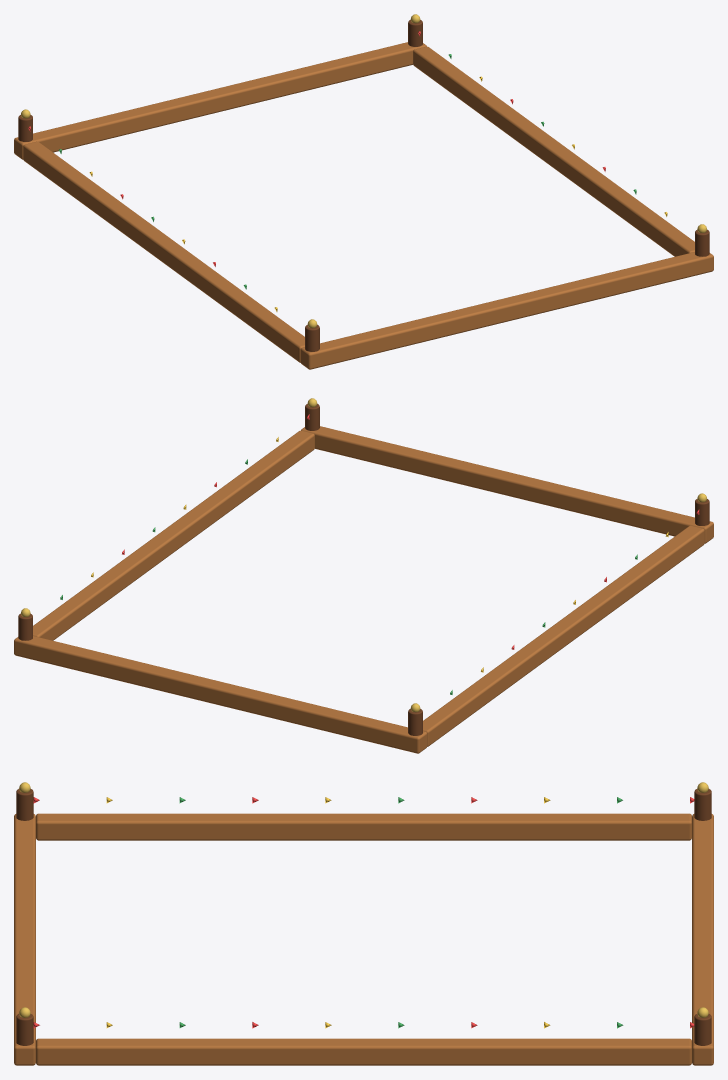
The model's file is pit_frame.glb.
3 views of the same model, one above another, from view 1: azimuth 30°, elevation 25°; view 2: azimuth 150°, elevation 25°; view 3: azimuth 270°, elevation 25° (orthographic). The views are drawn at different scales.
Visible parts, largest first — view 1: pit_frame; view 2: pit_frame; view 3: pit_frame.
Part boxes in pixels (box(x1,y1,x2,y2)): pit_frame: box(14, 14, 713, 369); pit_frame: box(14, 398, 713, 753); pit_frame: box(14, 782, 713, 1065).
Size of the model in its own units: 7.6 by 0.82 by 9.6.
